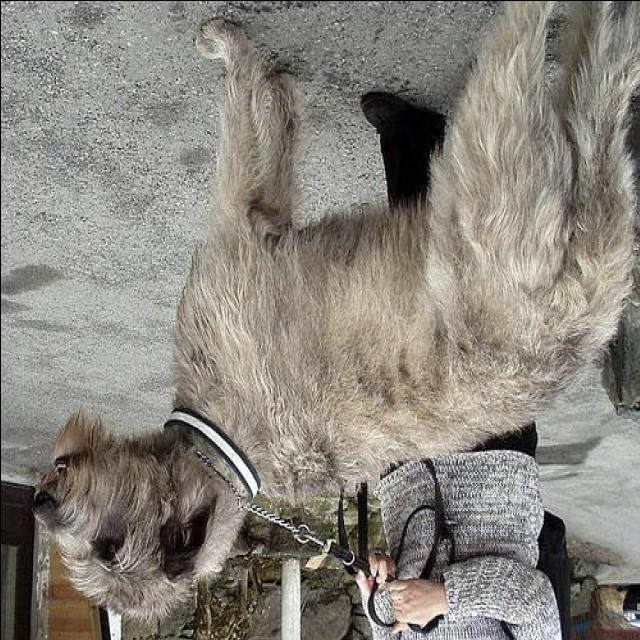irish_wolfhound: (33, 4, 640, 612)
